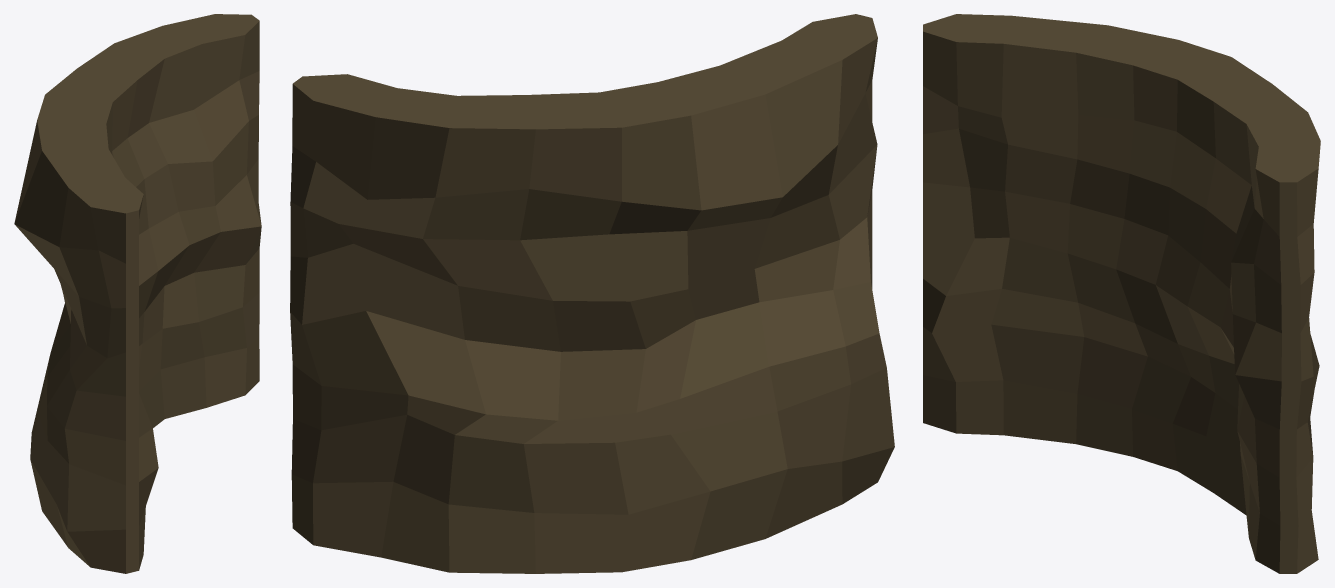
The model's file is BigCorner.2.fbx.
3 renders of one model, left to right at view 1: azimuth 30°, elevation 25°; view 2: azimuth 150°, elevation 25°; view 3: azimuth 270°, elevation 25°, orthographic. The views are drawn at different scales.
Visible parts, largest first — view 1: Big_Wall Corner.2; view 2: Big_Wall Corner.2; view 3: Big_Wall Corner.2.
Boxes of the visible parts, x1,y1,x2,y2 form: Big_Wall Corner.2: [14, 14, 261, 573]; Big_Wall Corner.2: [290, 14, 894, 573]; Big_Wall Corner.2: [923, 14, 1320, 573].
Bounding box in the file's own units: 1270 × 1300 × 1197.
